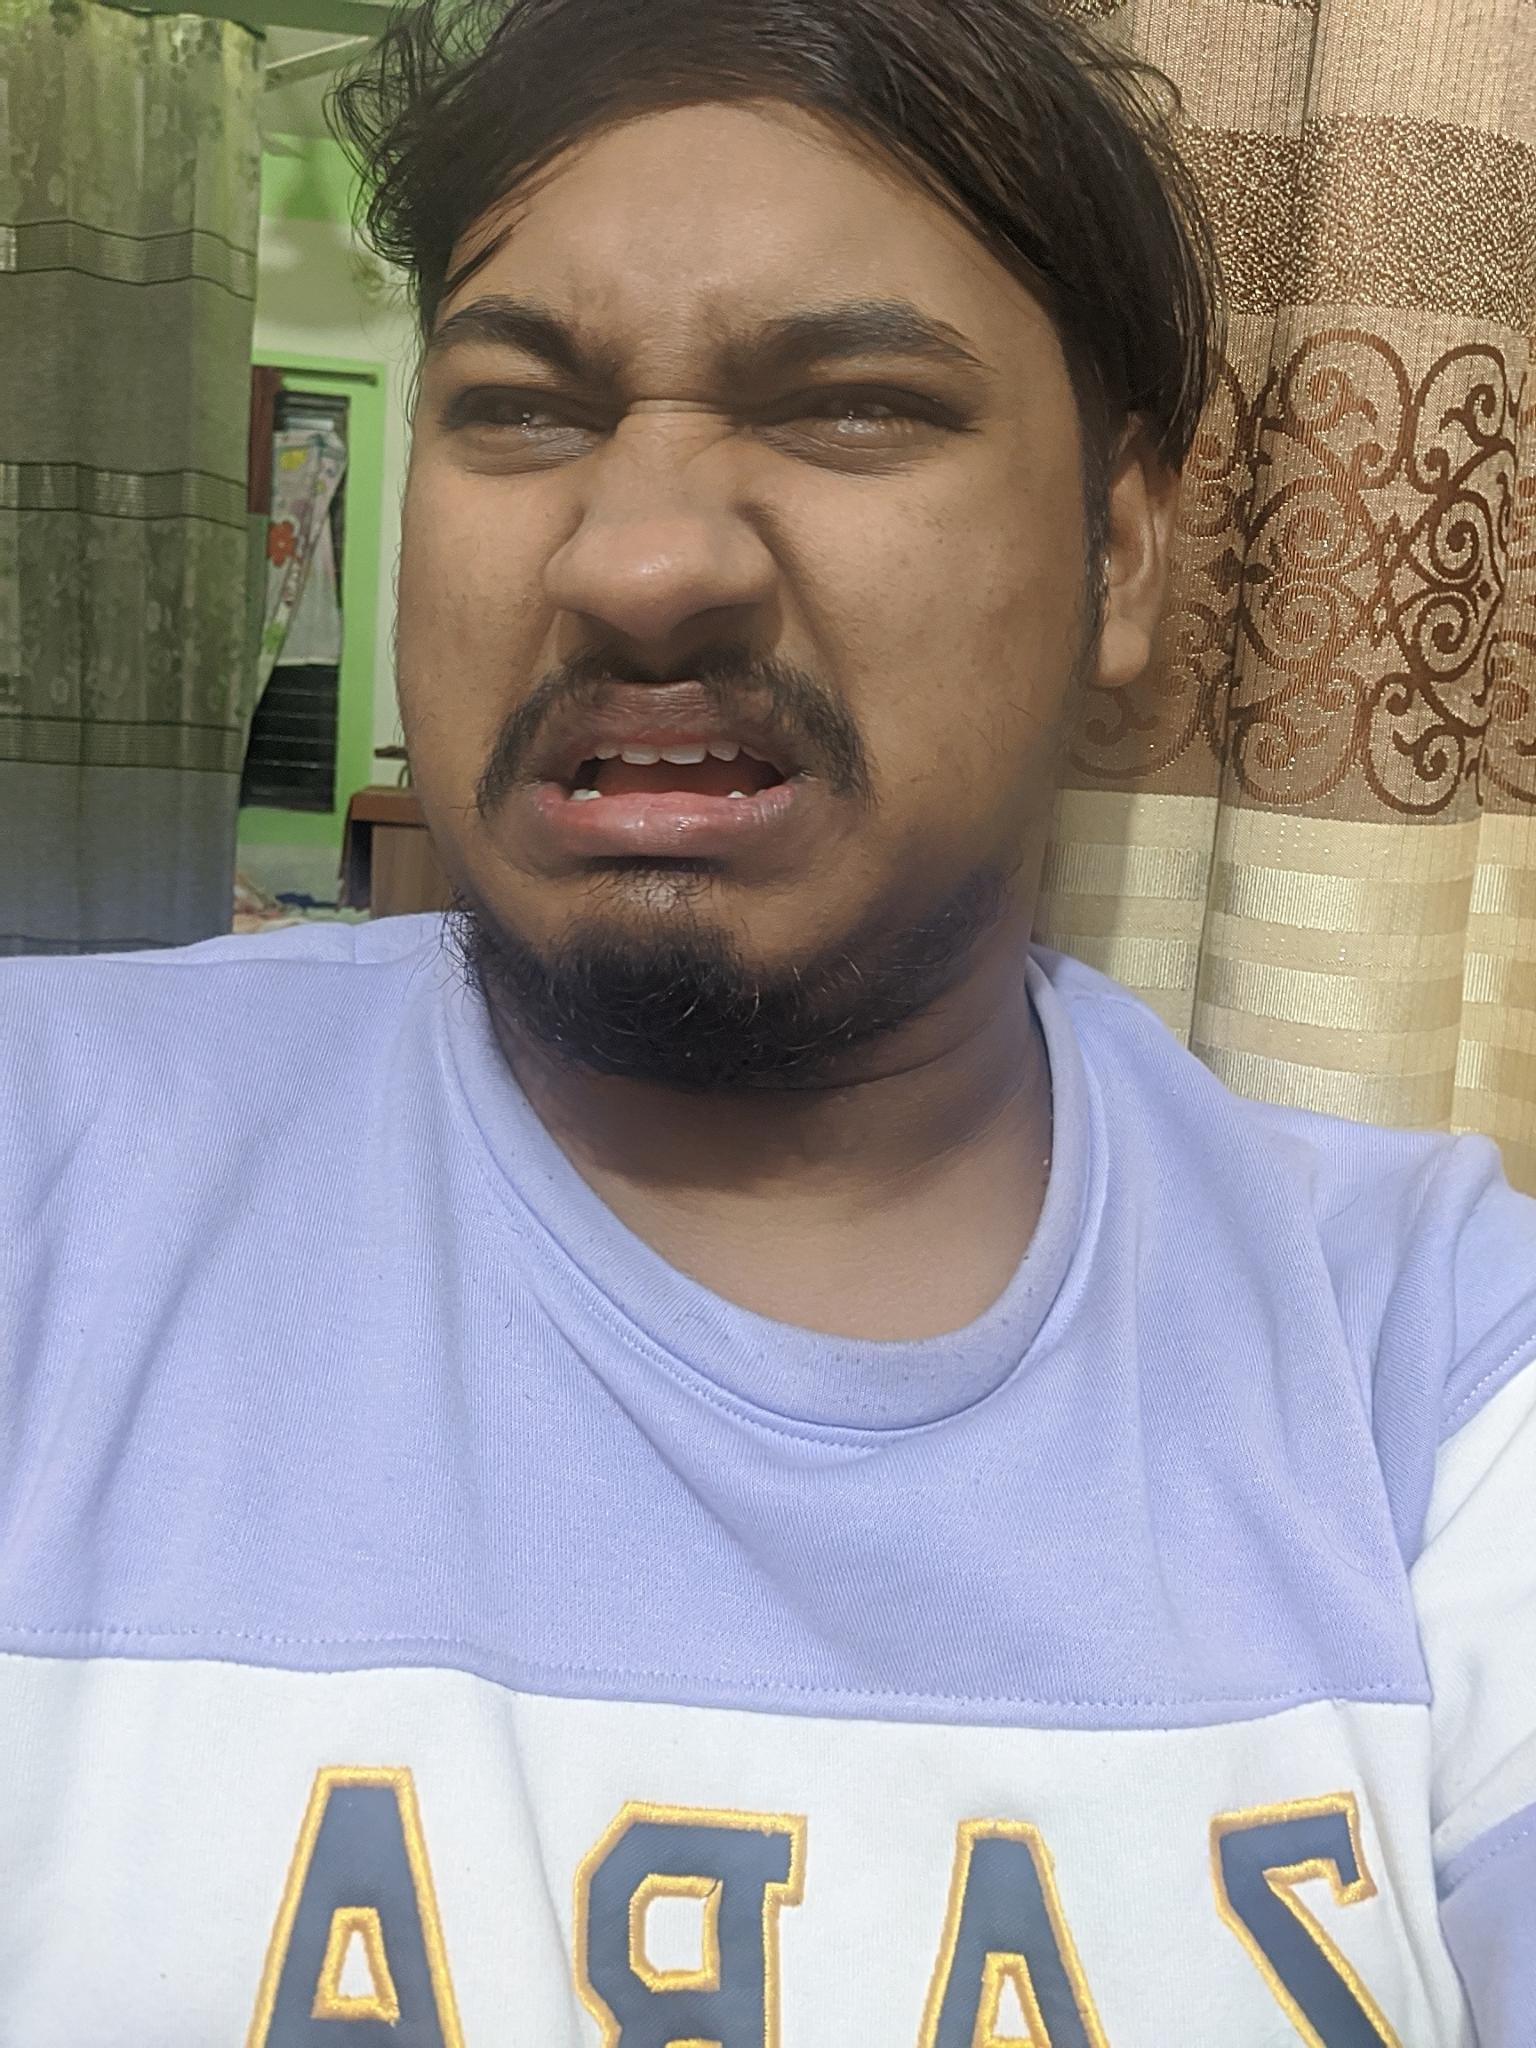Disgust: (387, 213, 1026, 1059)
